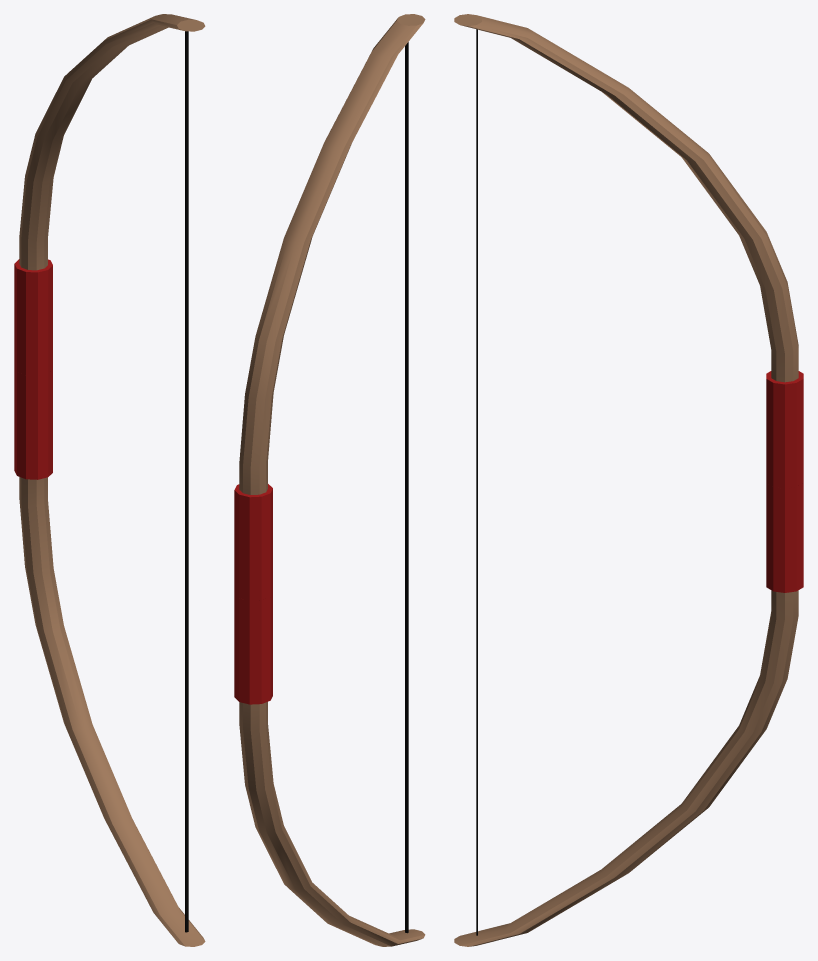
The model's file is bow.fbx.
The picture shows the model from 3 angles, left to right: view 1: azimuth 30°, elevation 25°; view 2: azimuth 150°, elevation 25°; view 3: azimuth 270°, elevation 25°; orthographic projection.
Parts seen in each view (by area): view 1: pCylinder2, pCylinder1, pCube1; view 2: pCylinder1, pCylinder2, pCube1; view 3: pCylinder1, pCylinder2, pCube1.
Boxes of the visible parts, left/top/right/bottom form: pCylinder2: left=14, top=367, right=205, bottom=946; pCylinder1: left=14, top=14, right=205, bottom=375; pCube1: left=185, top=31, right=188, bottom=932; pCylinder1: left=234, top=14, right=425, bottom=600; pCylinder2: left=234, top=593, right=425, bottom=946; pCube1: left=405, top=42, right=408, bottom=933; pCylinder1: left=454, top=14, right=803, bottom=488; pCylinder2: left=454, top=483, right=803, bottom=946; pCube1: left=476, top=29, right=477, bottom=935.
Bounding box in the file's own units: 2 × 51.88 × 17.83.
